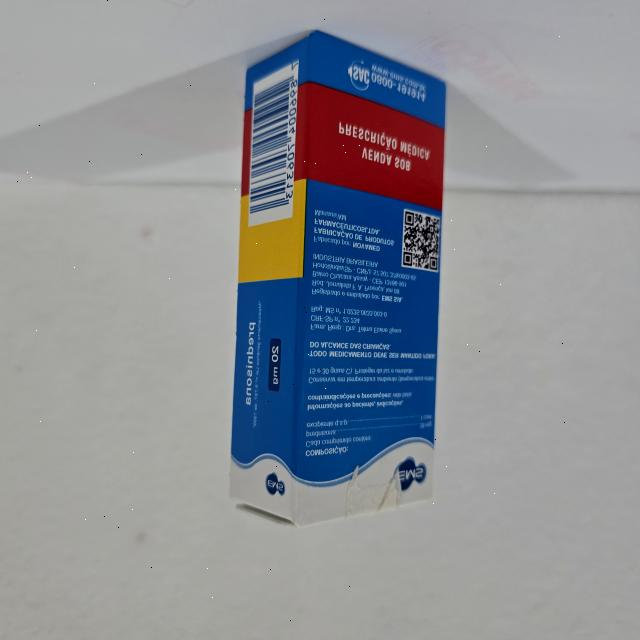prednisona: (224, 26, 451, 533)
